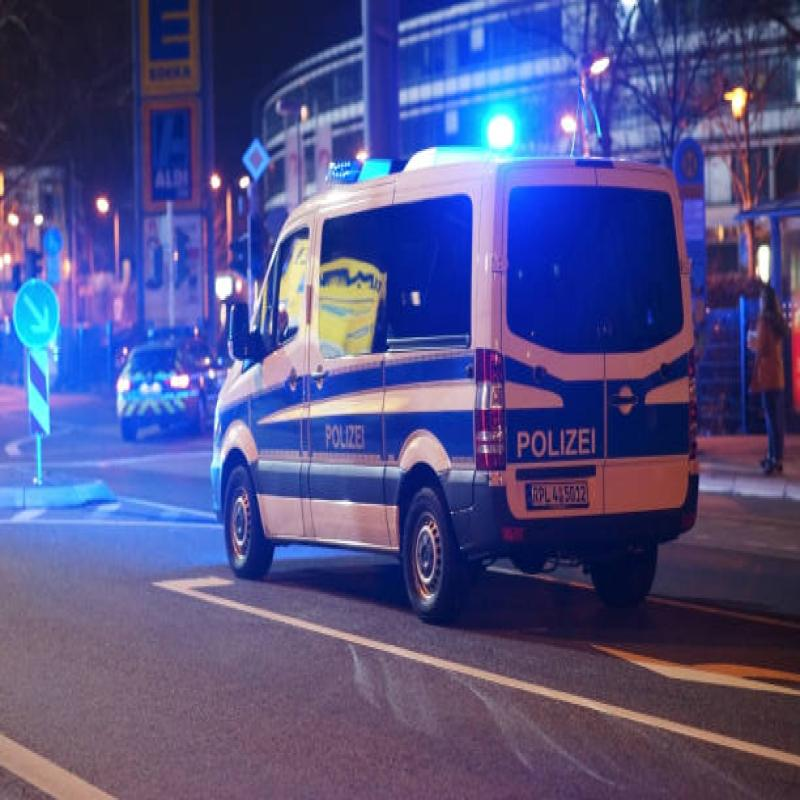AmbulanceSiren: (330, 128, 464, 188)
car: (196, 196, 722, 670)
